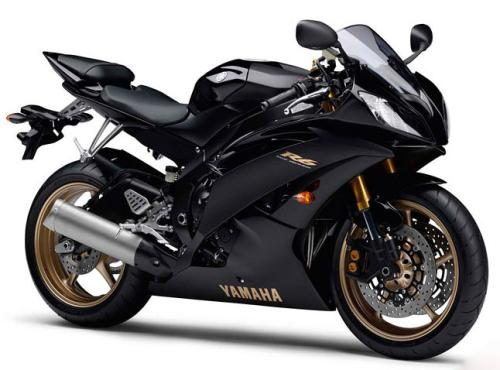motor: (18, 25, 484, 362)
